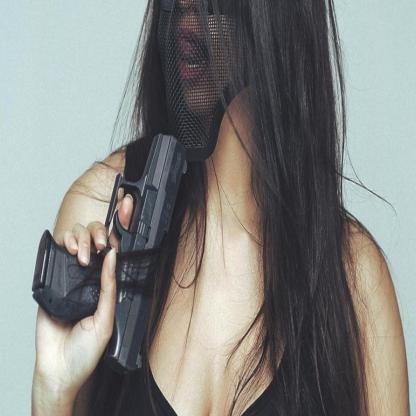gun: (35, 128, 193, 368)
